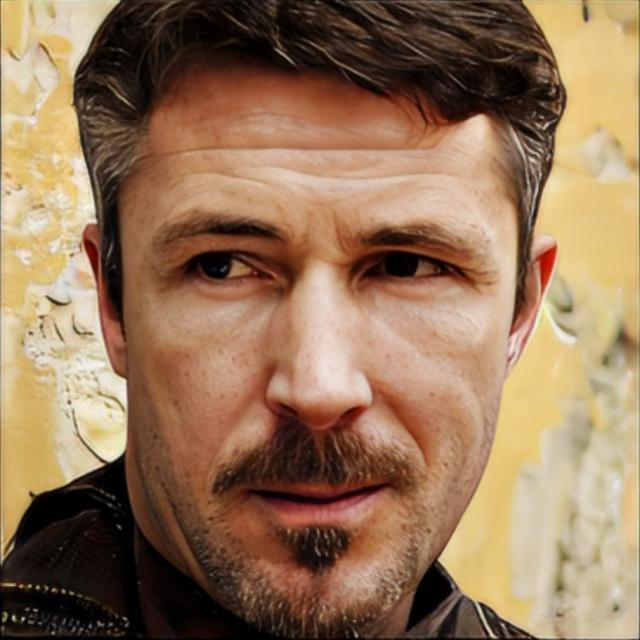content: (122, 71, 518, 636)
